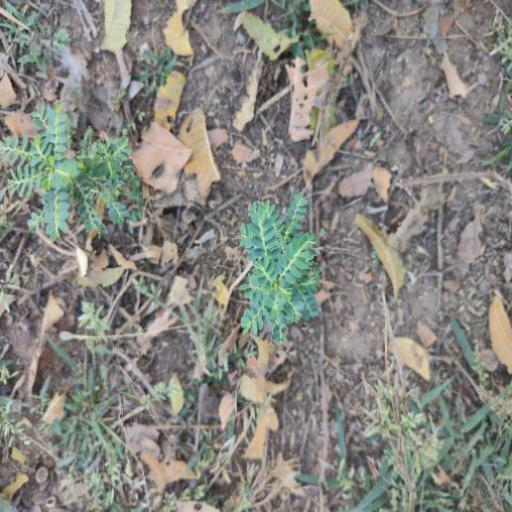weed: (7, 97, 154, 248), (235, 191, 325, 341)
